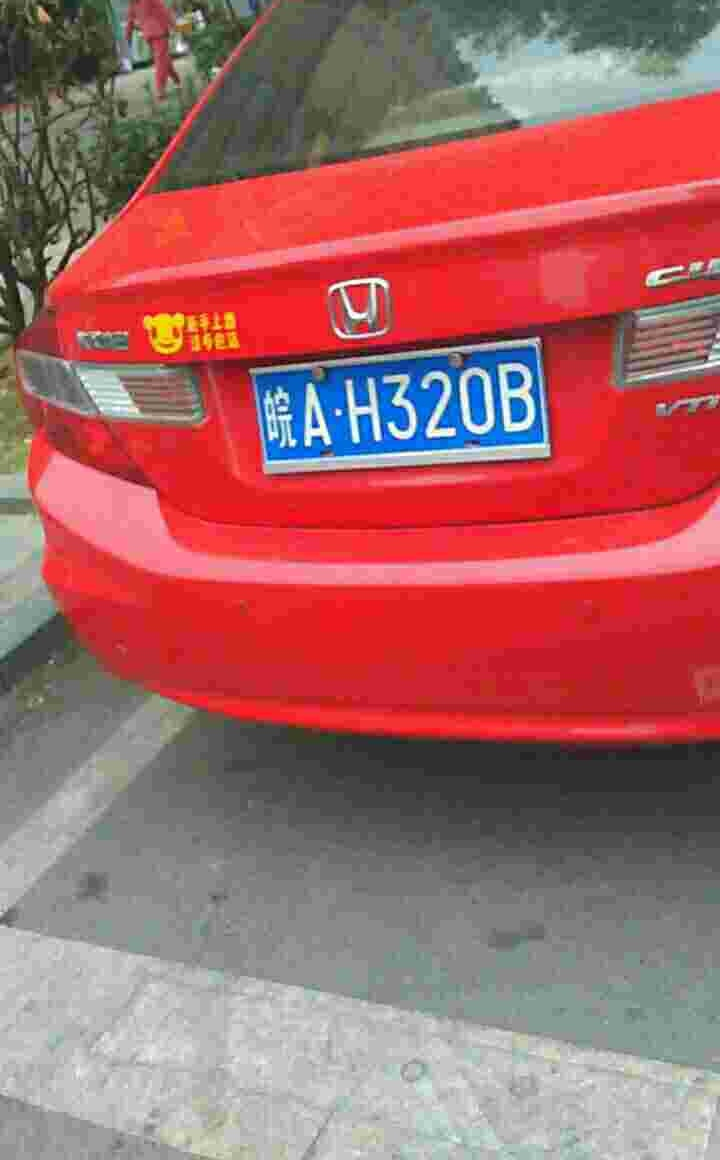license_plate: (256, 354, 543, 450)
